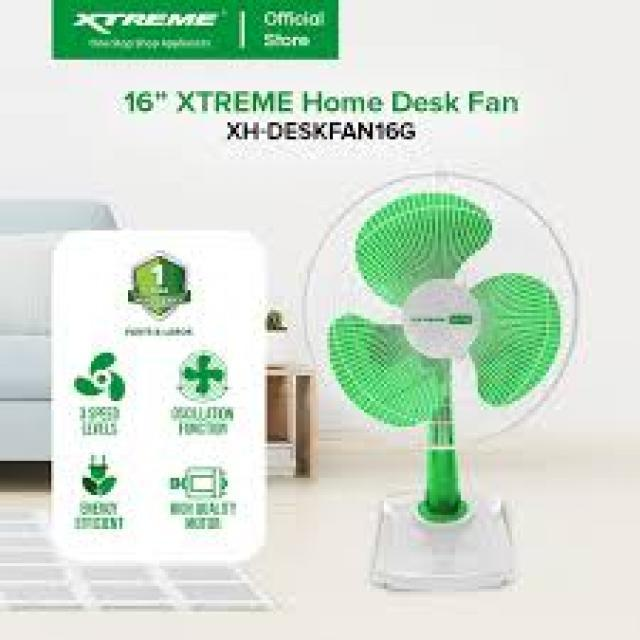fan: (312, 167, 590, 620)
